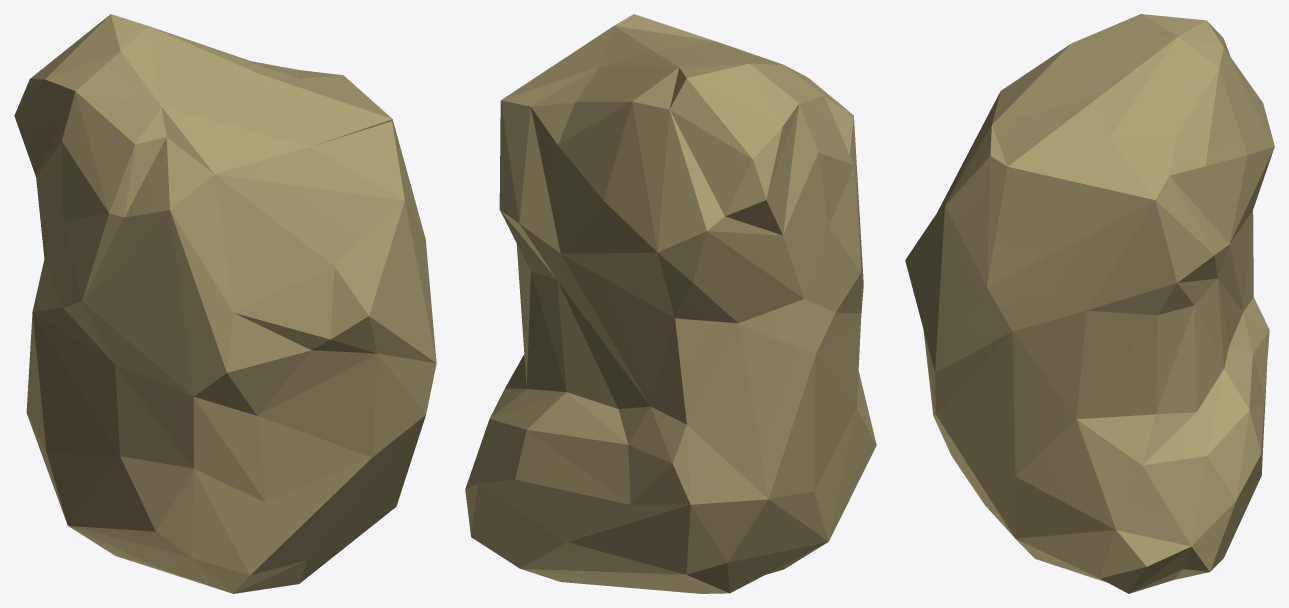
The model's file is SM_small_rock_32.fbx.
3 views of the same model, side by side, from view 1: azimuth 30°, elevation 25°; view 2: azimuth 150°, elevation 25°; view 3: azimuth 270°, elevation 25° (orthographic). The views are drawn at different scales.
Visible parts, largest first — view 1: small_rock_32; view 2: small_rock_32; view 3: small_rock_32.
Part boxes in pixels (<box>): small_rock_32: <box>14,14,436,593</box>; small_rock_32: <box>465,14,876,593</box>; small_rock_32: <box>905,14,1274,593</box>.
Bounding box in the file's own units: 104 × 157 × 105.
